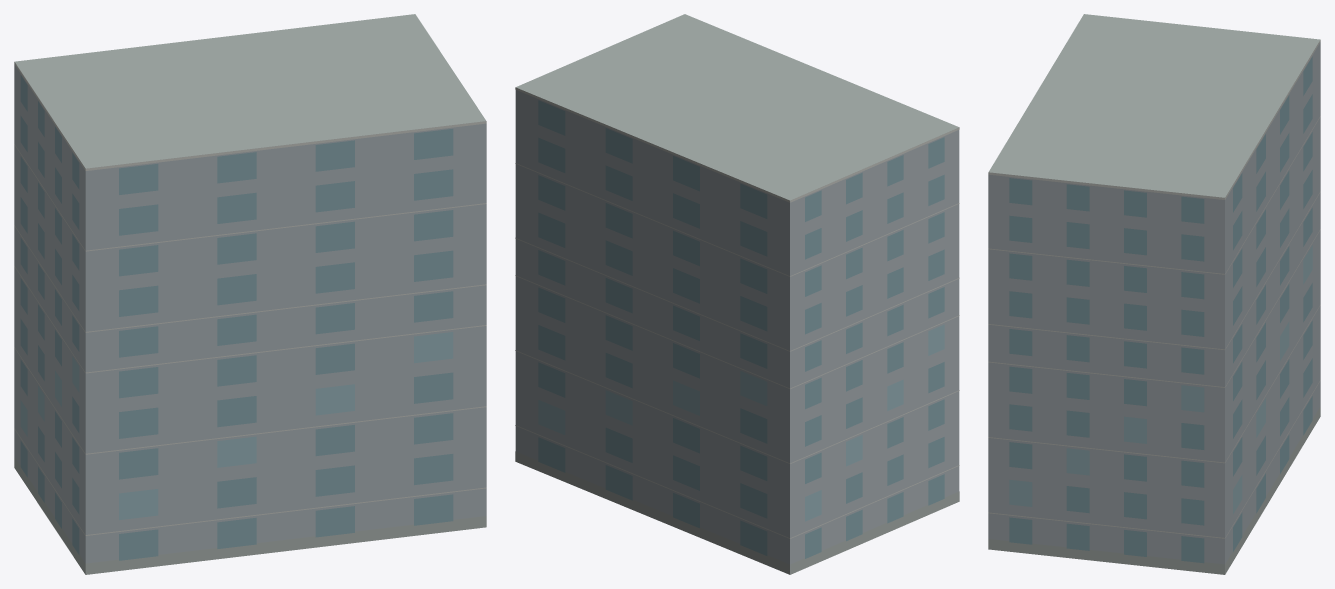
File: residential-2a6bb685-9c29-47ed-937a-d980d0b73fab.glb
3 views of the same model, side by side, from view 1: azimuth 30°, elevation 25°; view 2: azimuth 150°, elevation 25°; view 3: azimuth 270°, elevation 25° (orthographic). The views are drawn at different scales.
Parts seen in each view (by area): view 1: residential-2a6bb685-9c29-47ed-937a-d980d0b73fab.tmp; view 2: residential-2a6bb685-9c29-47ed-937a-d980d0b73fab.tmp; view 3: residential-2a6bb685-9c29-47ed-937a-d980d0b73fab.tmp.
Boxes of the visible parts, bbox=[...] form: residential-2a6bb685-9c29-47ed-937a-d980d0b73fab.tmp: bbox=[14, 14, 486, 574]; residential-2a6bb685-9c29-47ed-937a-d980d0b73fab.tmp: bbox=[515, 14, 959, 574]; residential-2a6bb685-9c29-47ed-937a-d980d0b73fab.tmp: bbox=[988, 14, 1320, 574].
Size of the model in its own units: 40.79 by 39 by 31.15.
